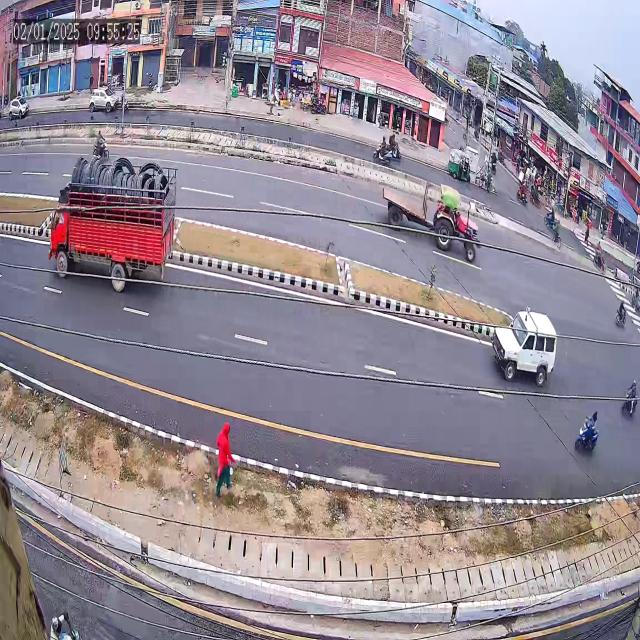car: (480, 289, 568, 402)
motorcycle: (569, 399, 611, 466), (604, 287, 632, 336), (616, 374, 640, 425), (588, 238, 610, 276), (387, 124, 408, 162), (544, 196, 562, 240), (374, 125, 392, 166)
